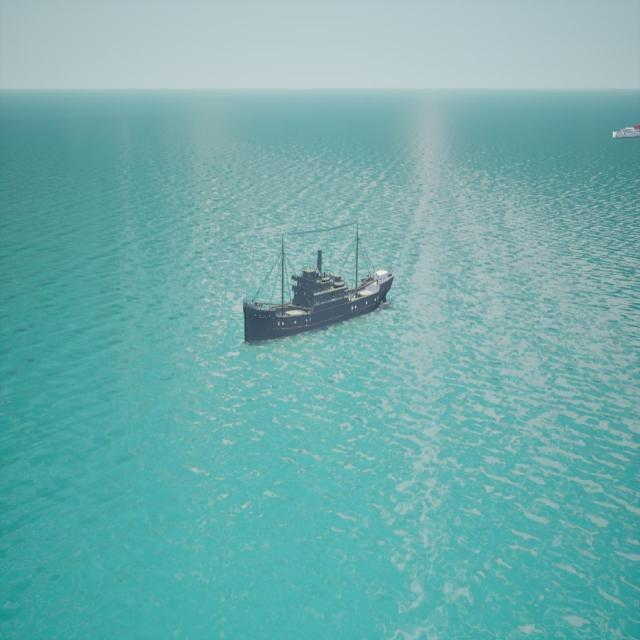fishing ship: (244, 247, 396, 345)
